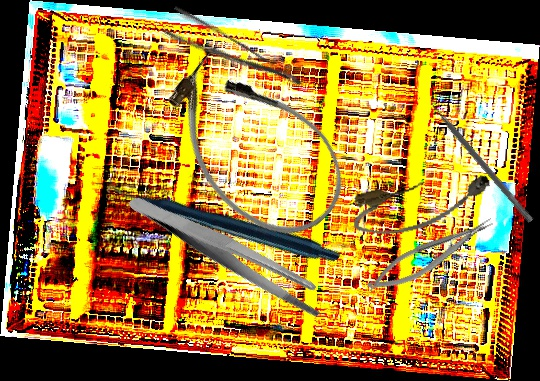Cannula: (142, 34, 367, 261), (347, 165, 498, 243)
Dressing Forceps: (127, 152, 332, 354), (159, 3, 305, 109)
Handpiece: (105, 94, 343, 343)
Needle Holder: (361, 211, 501, 300)
Spatula Surgical: (424, 94, 540, 224)
